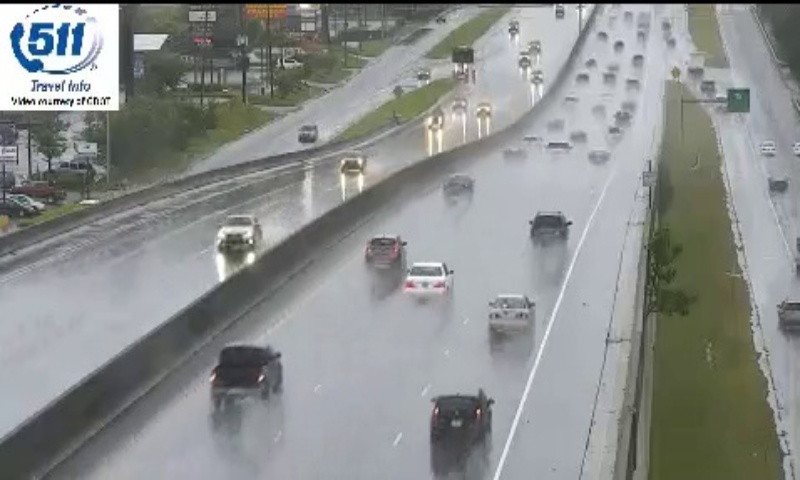car: (210, 344, 281, 396), (430, 388, 490, 441), (488, 293, 533, 333), (403, 262, 453, 297), (531, 211, 569, 243), (366, 236, 403, 266)
